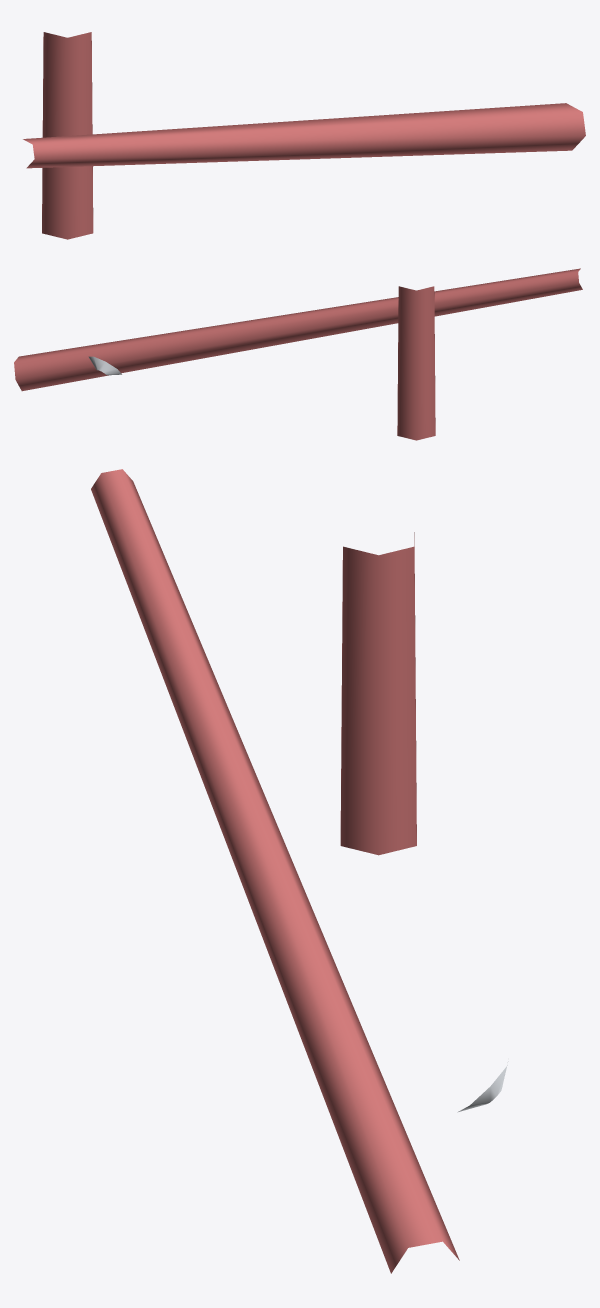
File: radio-tower-wreck.glb
3 renders of one model, top to bottom at view 1: azimuth 30°, elevation 25°; view 2: azimuth 150°, elevation 25°; view 3: azimuth 270°, elevation 25°, orthographic. The views are drawn at different scales.
Parts seen in each view (by area): view 1: Root; view 2: Root; view 3: Root.
Part boxes in pixels (bbox=[...]): Root: bbox=[23, 32, 585, 239]; Root: bbox=[14, 268, 582, 440]; Root: bbox=[91, 469, 508, 1273].
Bounding box in the file's own units: 20.71 × 7.68 × 7.61.
